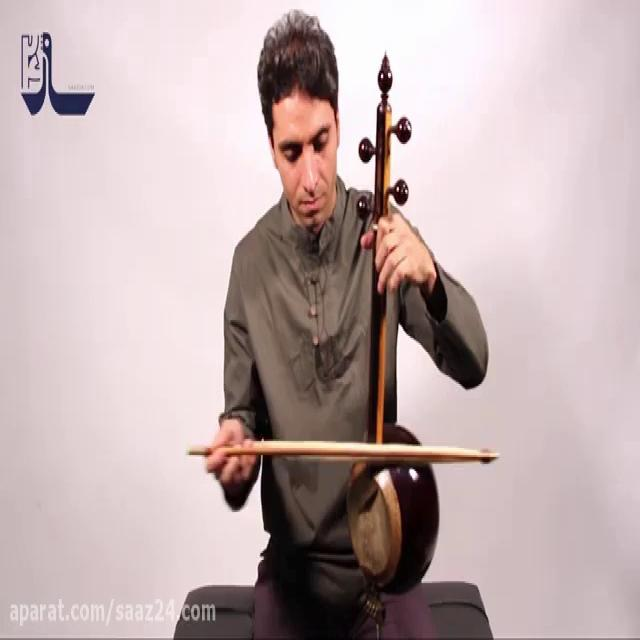Kamanche: (338, 36, 449, 618)
